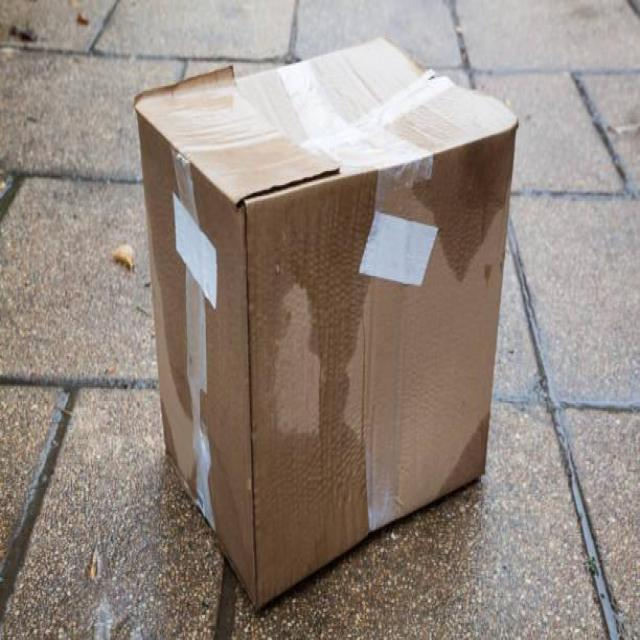cardboard: (133, 33, 520, 611)
